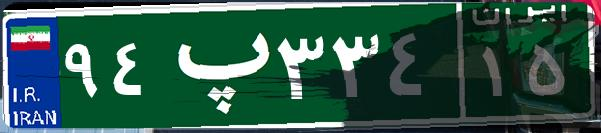1: (475, 38, 525, 113)
3: (273, 28, 330, 110), (330, 28, 385, 110)
4: (385, 28, 445, 110), (110, 28, 158, 105)
5: (525, 38, 570, 115)
9: (57, 26, 110, 107)
پ: (158, 15, 273, 115)
